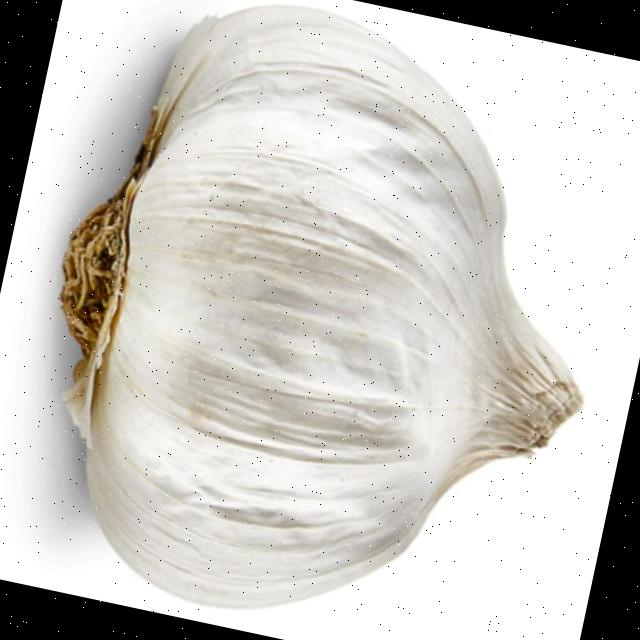garlic: (60, 7, 579, 607)
